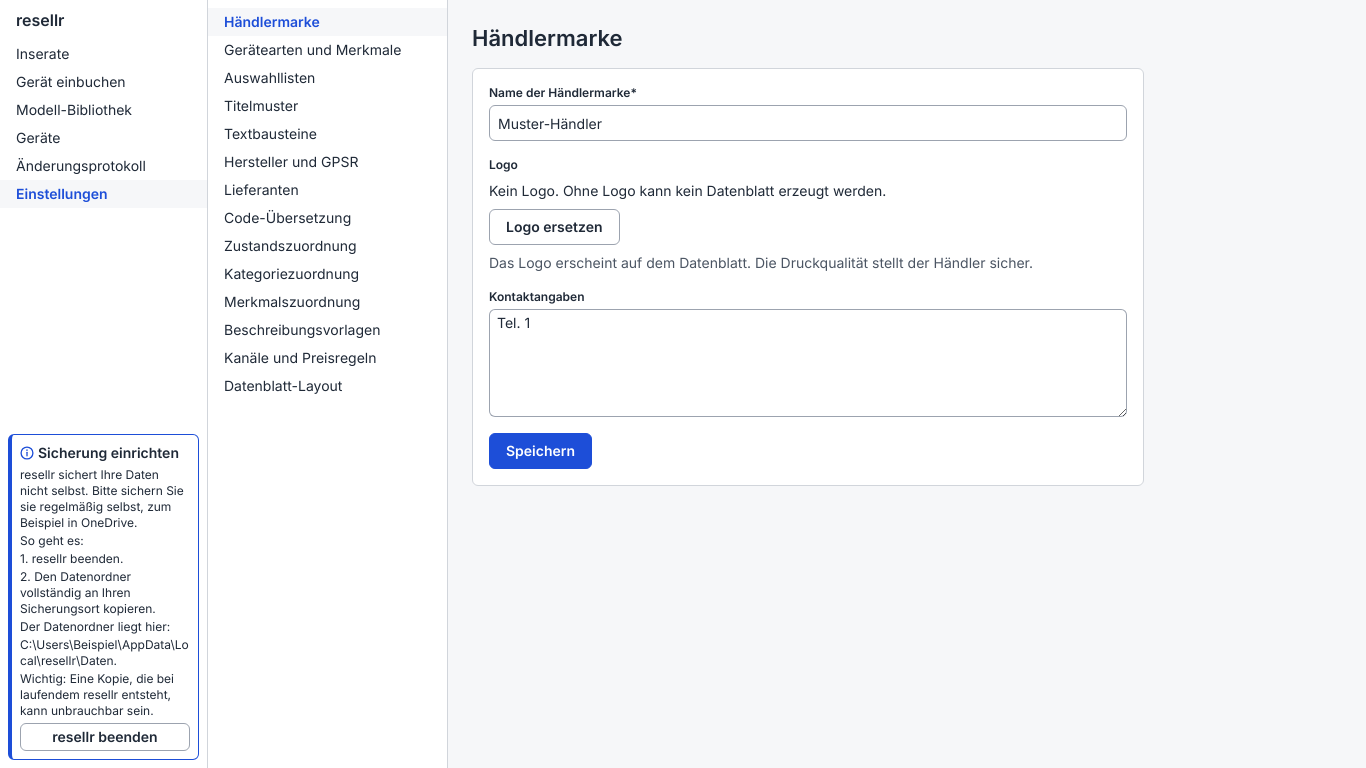
it: UI-026 merchant profile (CU-097) › UI-026.validation DER-42-05 a name that is empty shows "Name: 1 bis 100 Zeichen" at the field without a request
The width and height of the screenshot is (1366, 768).
Clear the field labelled "Name der Händlermarke*" at (808, 123), box [489,105,1127,141]
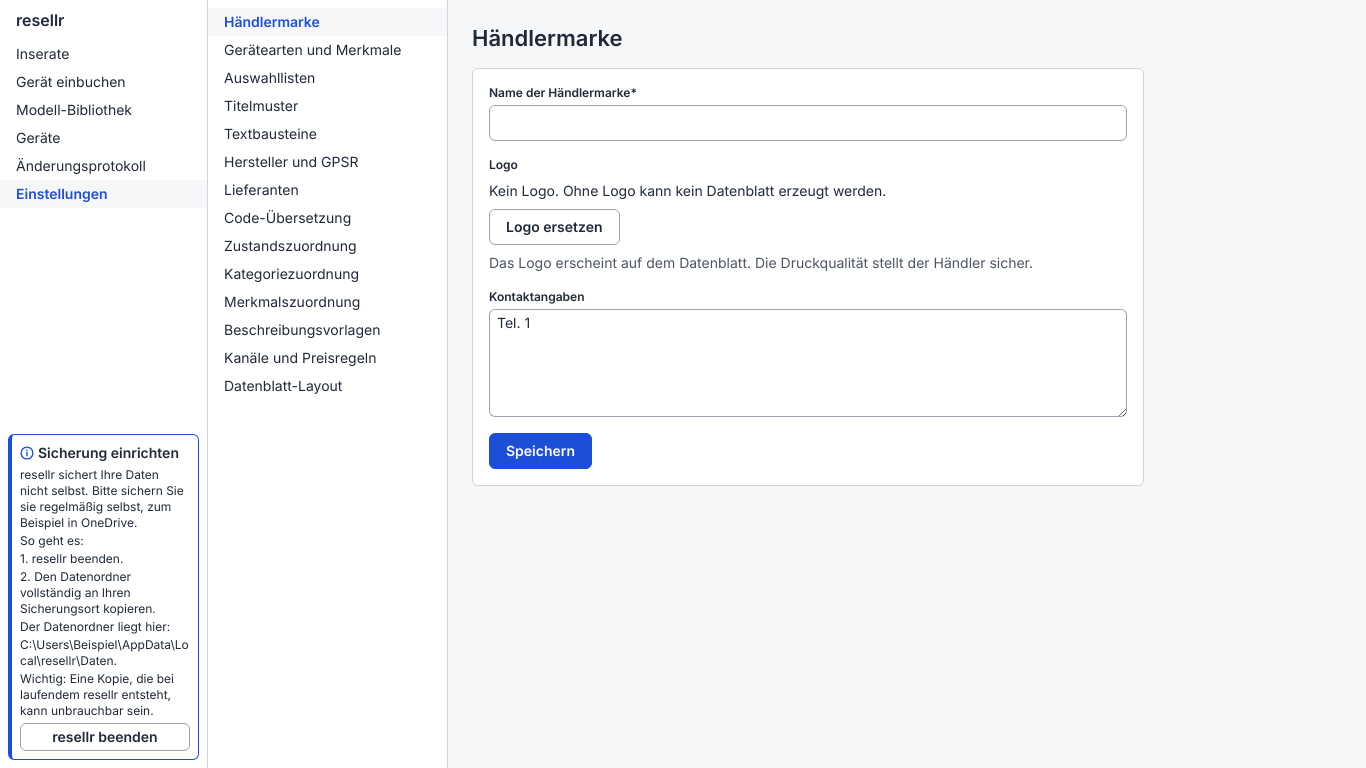
Click the button "Speichern".
click(541, 451)  # box [489,433,592,469]
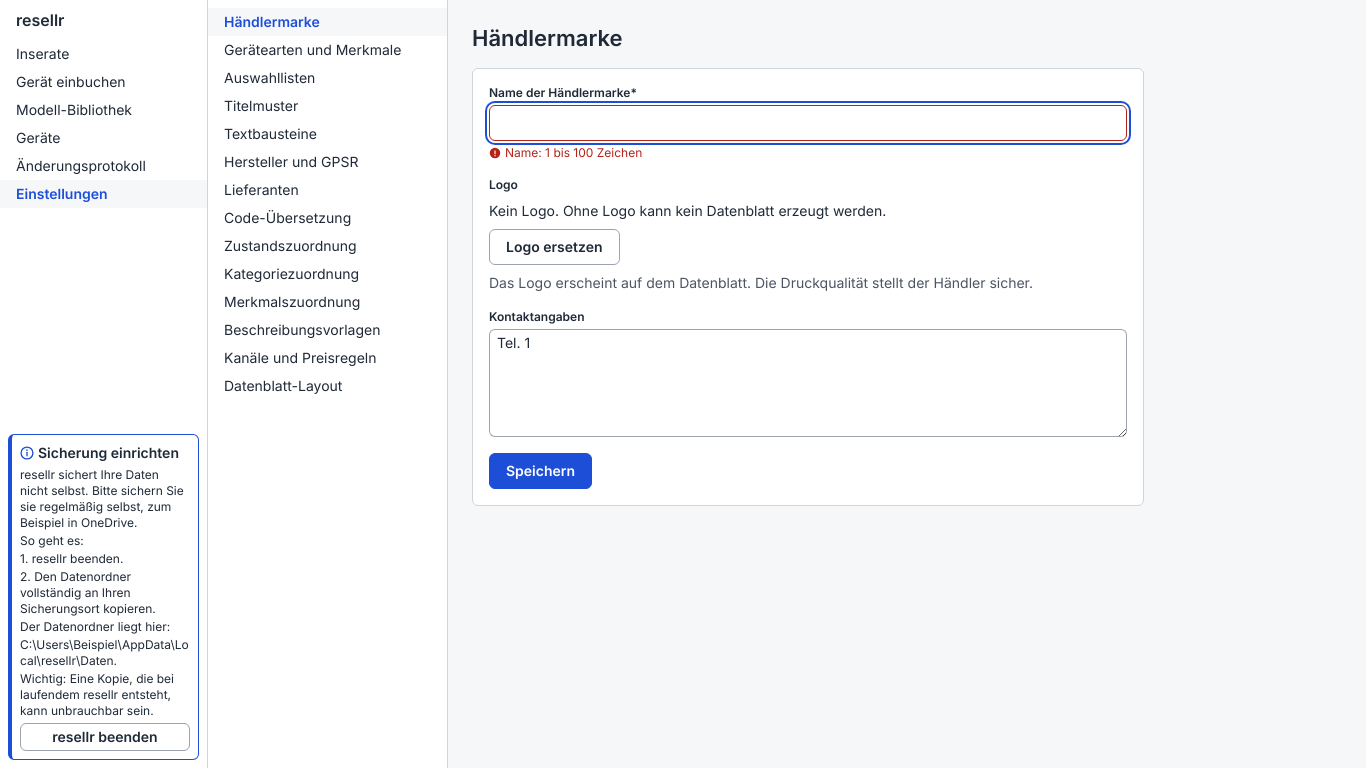
Expected: the heading "Händlermarke" is shown, [472,25,622,51]
Expected: the text "Name: 1 bis 100 Zeichen" is shown, [505,145,642,161]
